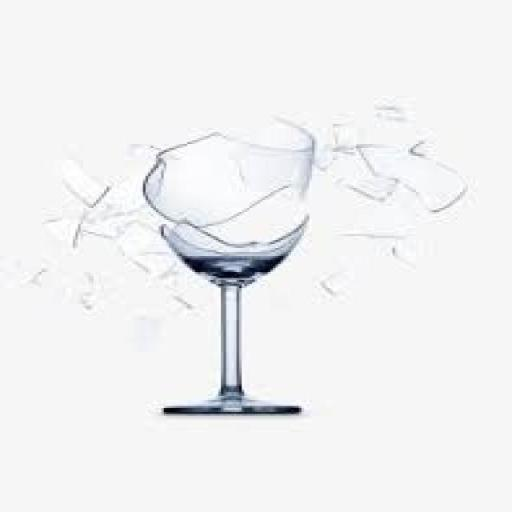glass: (139, 120, 323, 416)
